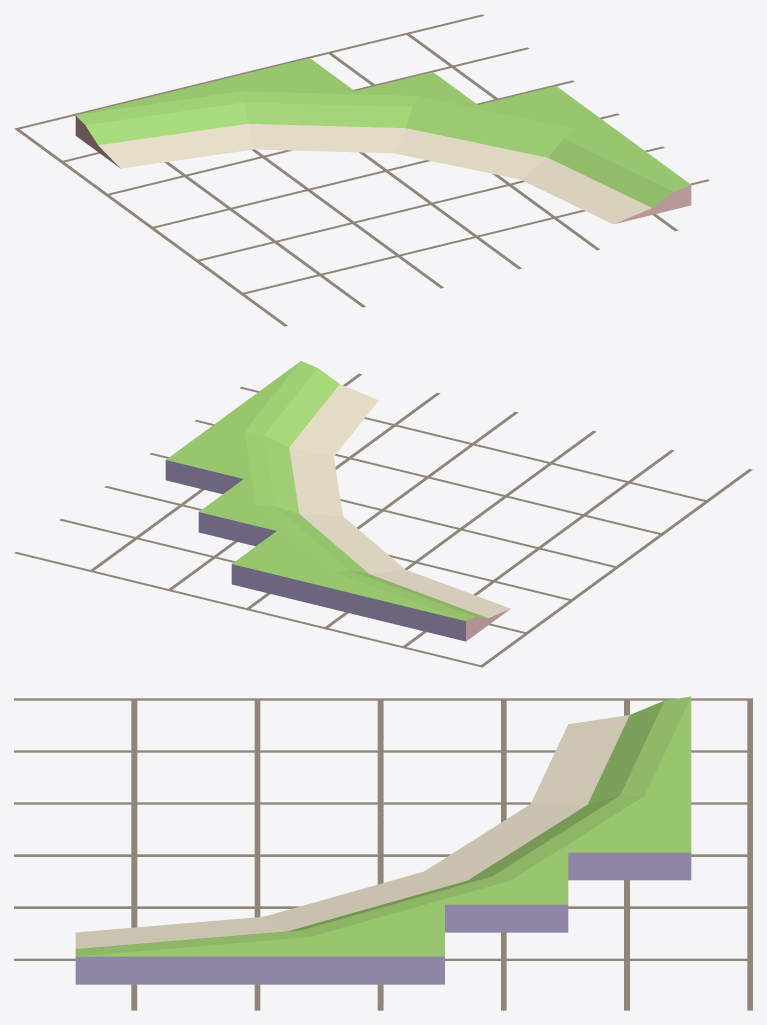
The model's file is Path_Terrain_Basic_Curve_Inner_5x5.glb.
The picture shows the model from 3 angles, top to bottom: view 1: azimuth 30°, elevation 25°; view 2: azimuth 150°, elevation 25°; view 3: azimuth 270°, elevation 25°; orthographic projection. The views are drawn at different scales.
Parts seen in each view (by area): view 1: Path_Terrain_Basic_Curve_Inner_5x5, Floor; view 2: Path_Terrain_Basic_Curve_Inner_5x5, Floor; view 3: Path_Terrain_Basic_Curve_Inner_5x5, Floor.
Part boxes in pixels (x1=…): Path_Terrain_Basic_Curve_Inner_5x5: x1=75, y1=58, x2=691, y2=224; Floor: x1=14, y1=14, x2=709, y2=326; Path_Terrain_Basic_Curve_Inner_5x5: x1=165, y1=361, x2=510, y2=641; Floor: x1=14, y1=373, x2=752, y2=667; Path_Terrain_Basic_Curve_Inner_5x5: x1=75, y1=696, x2=691, y2=984; Floor: x1=14, y1=698, x2=752, y2=1010.
Size of the model in its own units: 600 by 25 by 600.
Materials: 6 (1 with a texture image).
